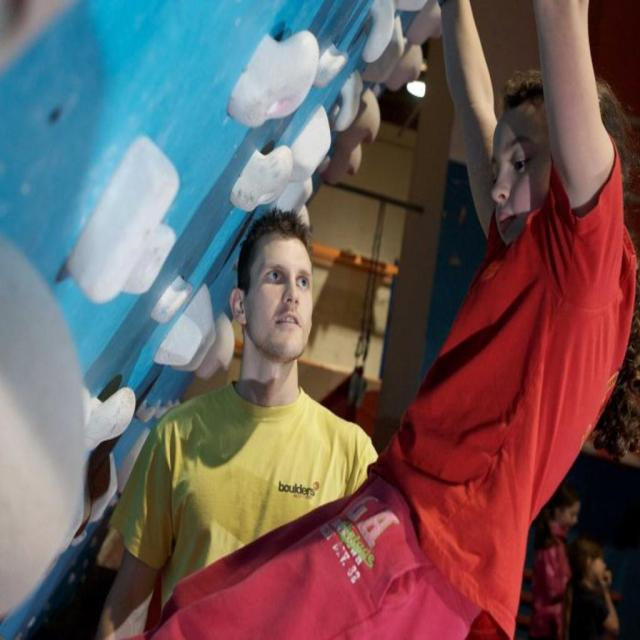Face: (244, 230, 324, 379), (485, 102, 543, 245)
